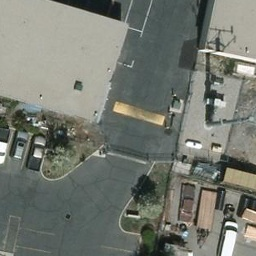car: (27, 132, 45, 169), (219, 219, 237, 256), (12, 131, 28, 163), (1, 120, 10, 167)
